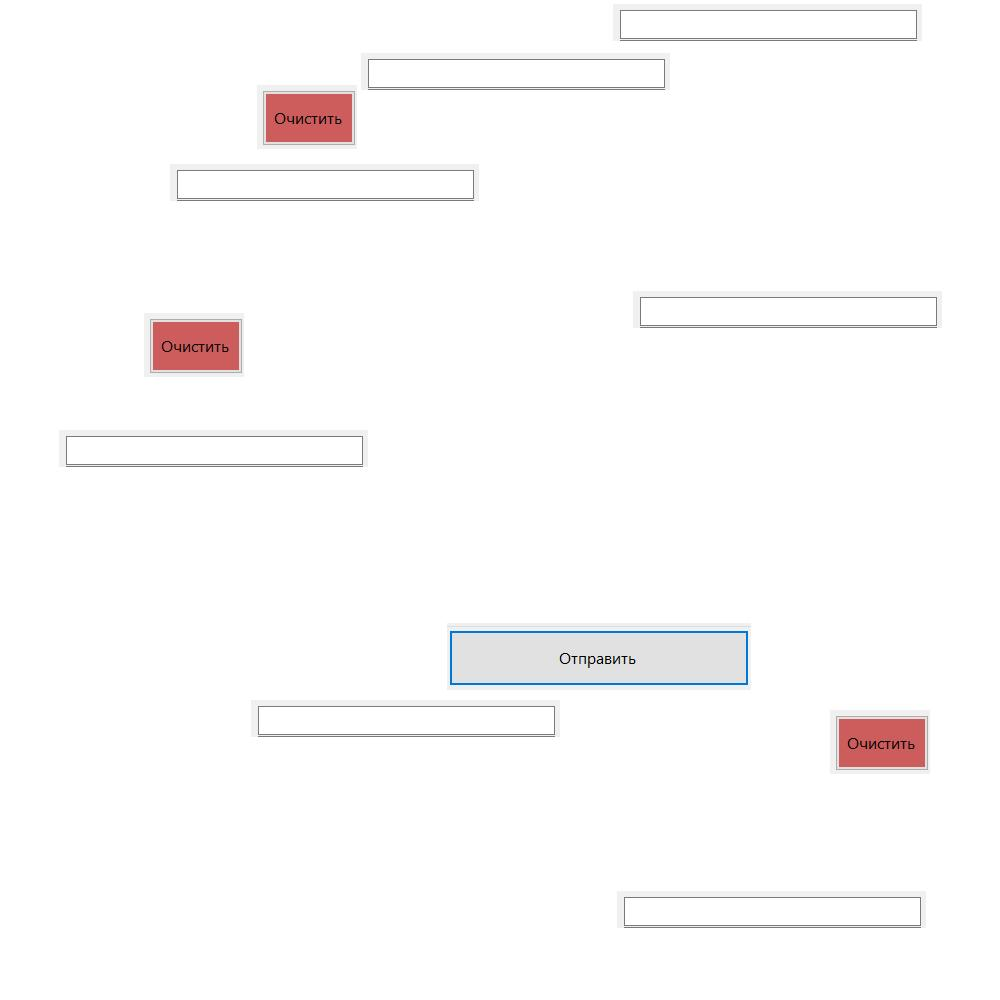Button: (447, 623, 751, 690), (144, 313, 244, 377), (830, 710, 930, 774), (257, 85, 357, 149)
EditText-: (633, 291, 942, 328), (617, 891, 926, 928), (361, 53, 670, 90), (613, 4, 922, 41), (170, 164, 479, 201), (251, 700, 560, 737), (59, 430, 368, 467)
